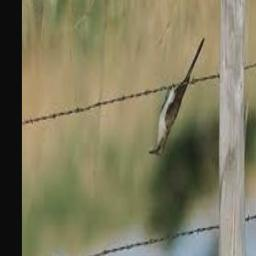Cuckoo: (147, 38, 204, 158)
